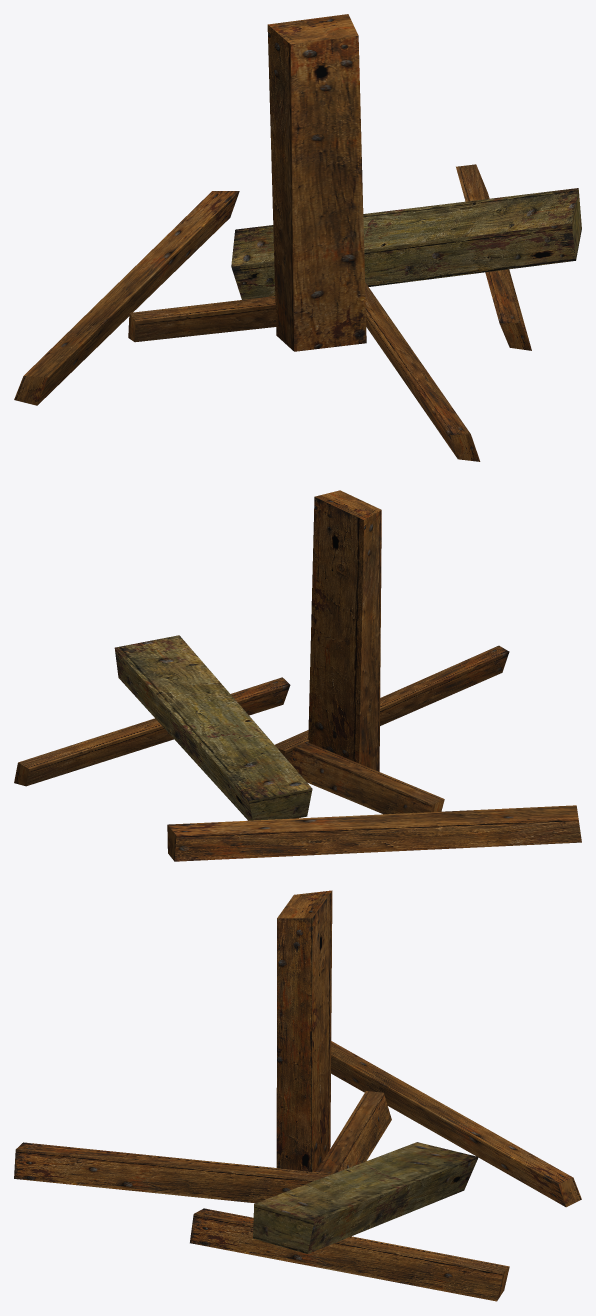
The model's file is mm9_deco_lumberdebris05.glb.
3 views of the same model, one above another, from view 1: azimuth 30°, elevation 25°; view 2: azimuth 150°, elevation 25°; view 3: azimuth 270°, elevation 25° (orthographic). The views are drawn at different scales.
Visible parts, largest first — view 1: Lumberdebris05; view 2: Lumberdebris05; view 3: Lumberdebris05.
Boxes of the visible parts, bbox=[...] form: Lumberdebris05: bbox=[14, 14, 581, 461]; Lumberdebris05: bbox=[14, 490, 581, 861]; Lumberdebris05: bbox=[14, 890, 581, 1301].
Size of the model in its own units: 1.97 by 1.06 by 1.94.
1 material, 1 textured.
